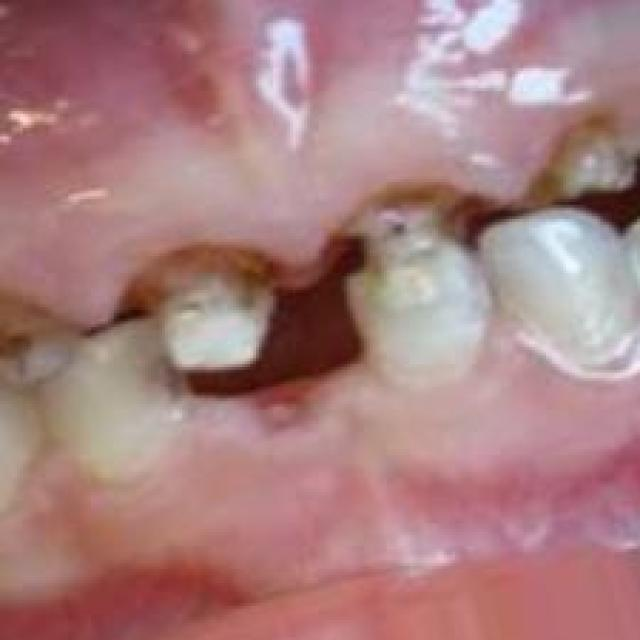caries: (315, 166, 503, 391), (118, 233, 300, 386), (509, 103, 640, 230), (0, 277, 104, 402)
